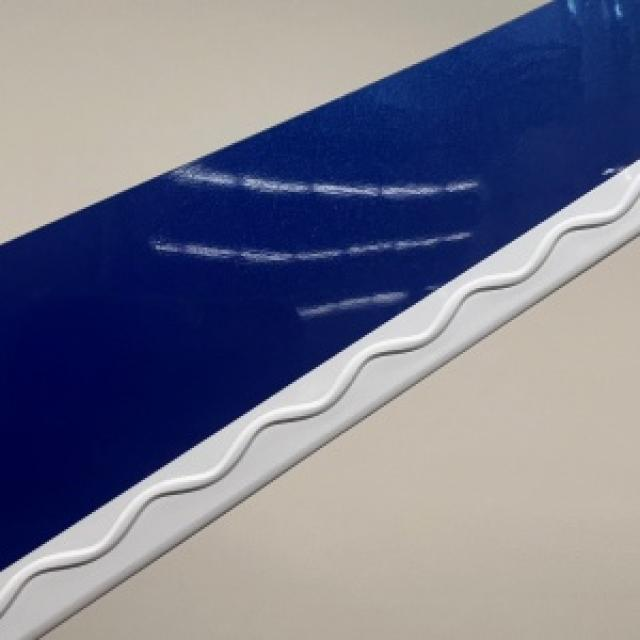healthy: (43, 273, 634, 638)
